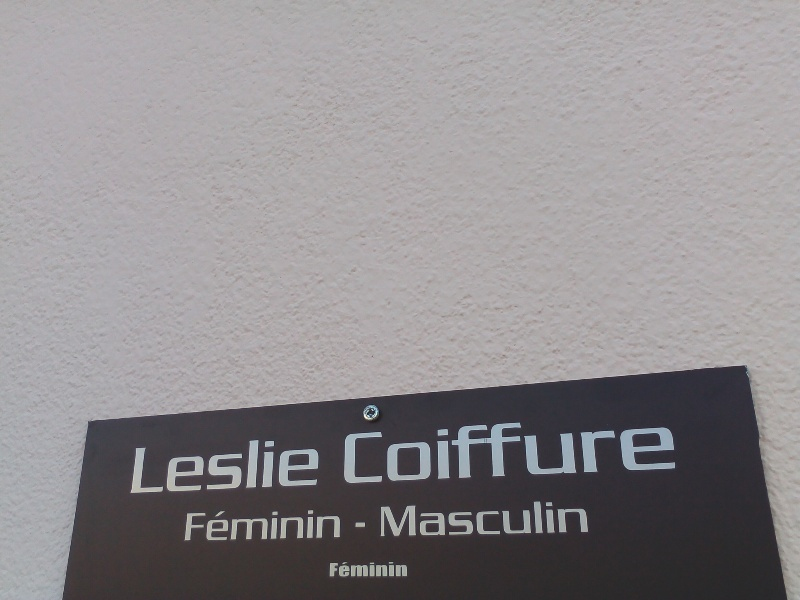text: (353, 410, 368, 488), (369, 410, 384, 488), (385, 410, 400, 488), (401, 410, 416, 488), (417, 410, 432, 488), (433, 410, 448, 488), (449, 410, 464, 488), (465, 410, 480, 488), (481, 410, 496, 488), (497, 410, 512, 488), (513, 410, 528, 488), (529, 410, 544, 488), (545, 410, 560, 488), (561, 410, 576, 488), (577, 410, 592, 488), (593, 410, 608, 488), (609, 410, 624, 488), (625, 410, 640, 488), (641, 410, 656, 488), (657, 410, 672, 488), (305, 434, 321, 497), (145, 434, 160, 497), (161, 434, 176, 497), (177, 434, 192, 497), (193, 434, 208, 497), (209, 434, 224, 497), (225, 434, 240, 497), (241, 434, 256, 497), (257, 434, 272, 497), (273, 434, 288, 497), (289, 434, 304, 497), (673, 410, 685, 488), (341, 410, 352, 488), (385, 499, 400, 541), (401, 499, 416, 541), (417, 499, 432, 541), (433, 499, 448, 541), (449, 499, 464, 541), (465, 499, 480, 541), (481, 499, 496, 541), (497, 499, 512, 541), (513, 499, 528, 541), (529, 499, 544, 541), (545, 499, 560, 541), (561, 499, 576, 541), (193, 504, 208, 544), (209, 504, 224, 544), (225, 504, 240, 544), (241, 504, 256, 544), (257, 504, 272, 544), (273, 504, 288, 544), (289, 504, 304, 544), (305, 504, 320, 544), (321, 504, 336, 544), (577, 499, 591, 541), (136, 434, 144, 497), (374, 499, 384, 541), (337, 504, 347, 544), (185, 504, 192, 544), (337, 562, 352, 578), (353, 562, 368, 578), (369, 562, 384, 578), (385, 562, 400, 578), (353, 519, 367, 534), (401, 562, 409, 578), (329, 562, 336, 578), (351, 519, 352, 534)
